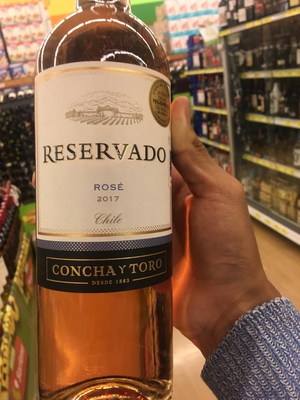reservado rose: (35, 16, 173, 400)
